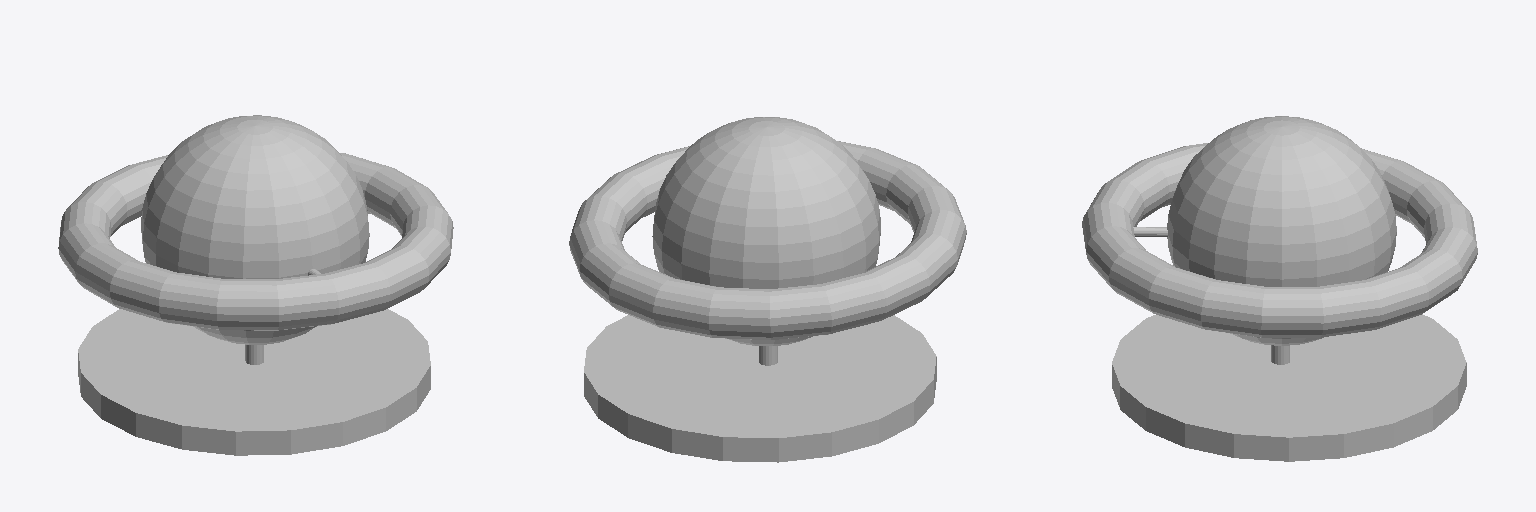
Rendered from Planet Mesh.obj.
The picture shows the model from 3 angles: view 1: azimuth 30°, elevation 25°; view 2: azimuth 150°, elevation 25°; view 3: azimuth 270°, elevation 25°; orthographic projection.
Parts seen in each view (by area): view 1: Planet_Model; view 2: Planet_Model; view 3: Planet_Model.
Part boxes in pixels (left/top/right/bottom): Planet_Model: left=58, top=115, right=453, bottom=455; Planet_Model: left=569, top=117, right=966, bottom=462; Planet_Model: left=1082, top=116, right=1477, bottom=461.
Bounding box in the file's own units: 7.68 × 5.53 × 7.68.